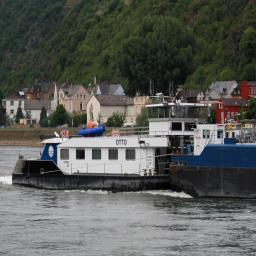tugboat: (11, 95, 242, 201)
